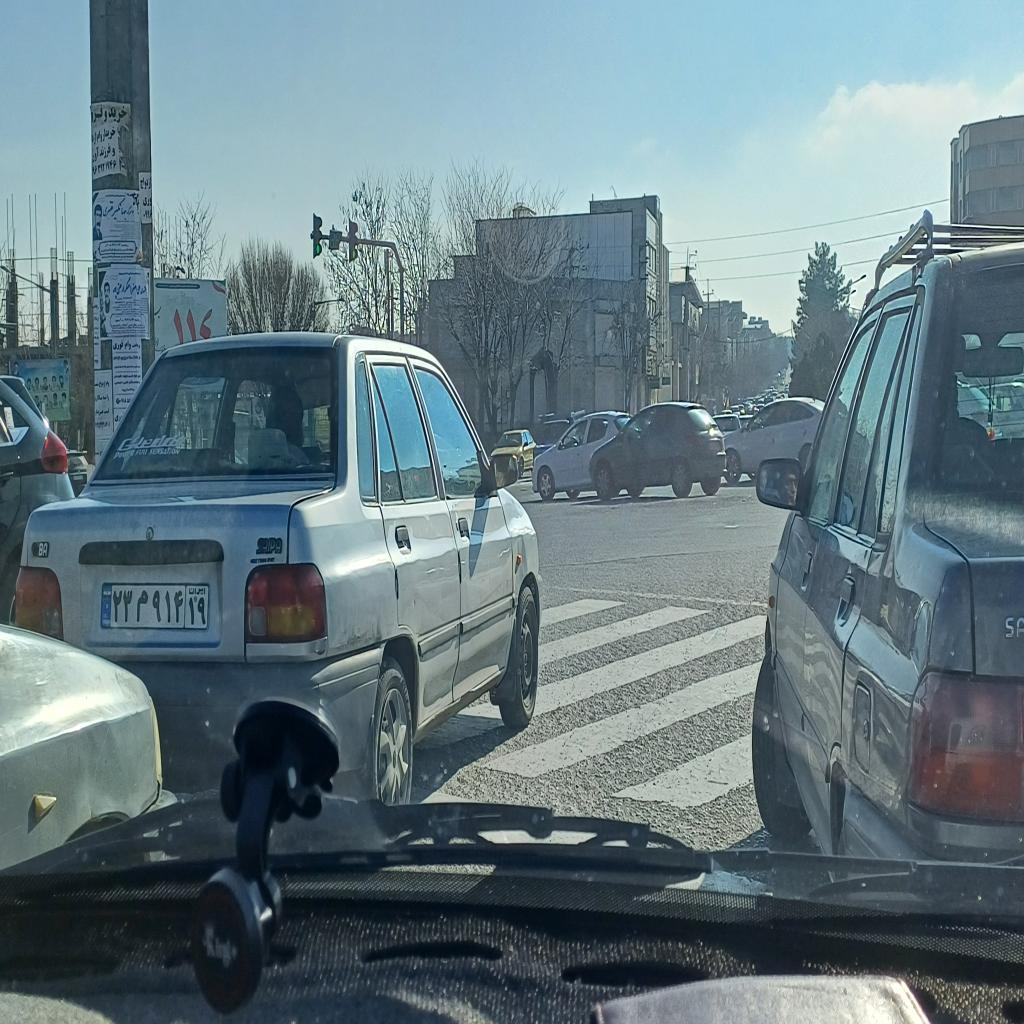Plates: (101, 583, 210, 630)
